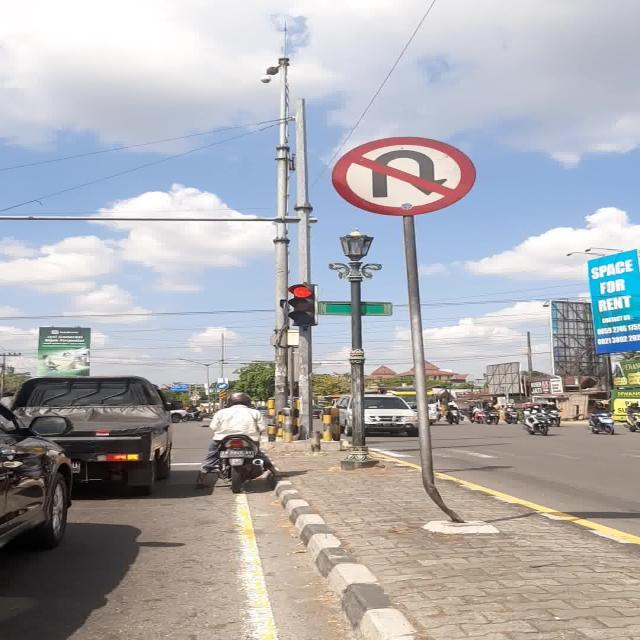Dilarang Putar Balik: (332, 136, 476, 215)
